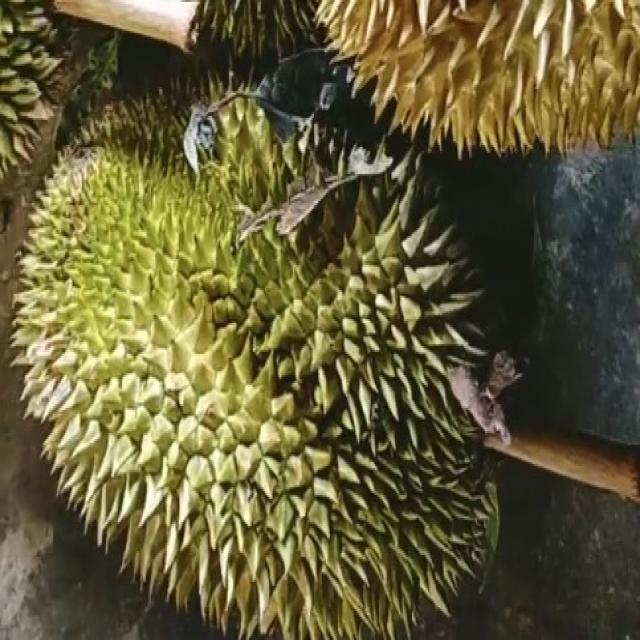immature: (16, 71, 516, 640)
